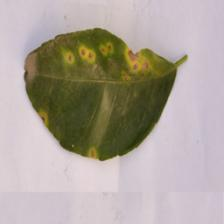canker: (57, 28, 147, 86)
